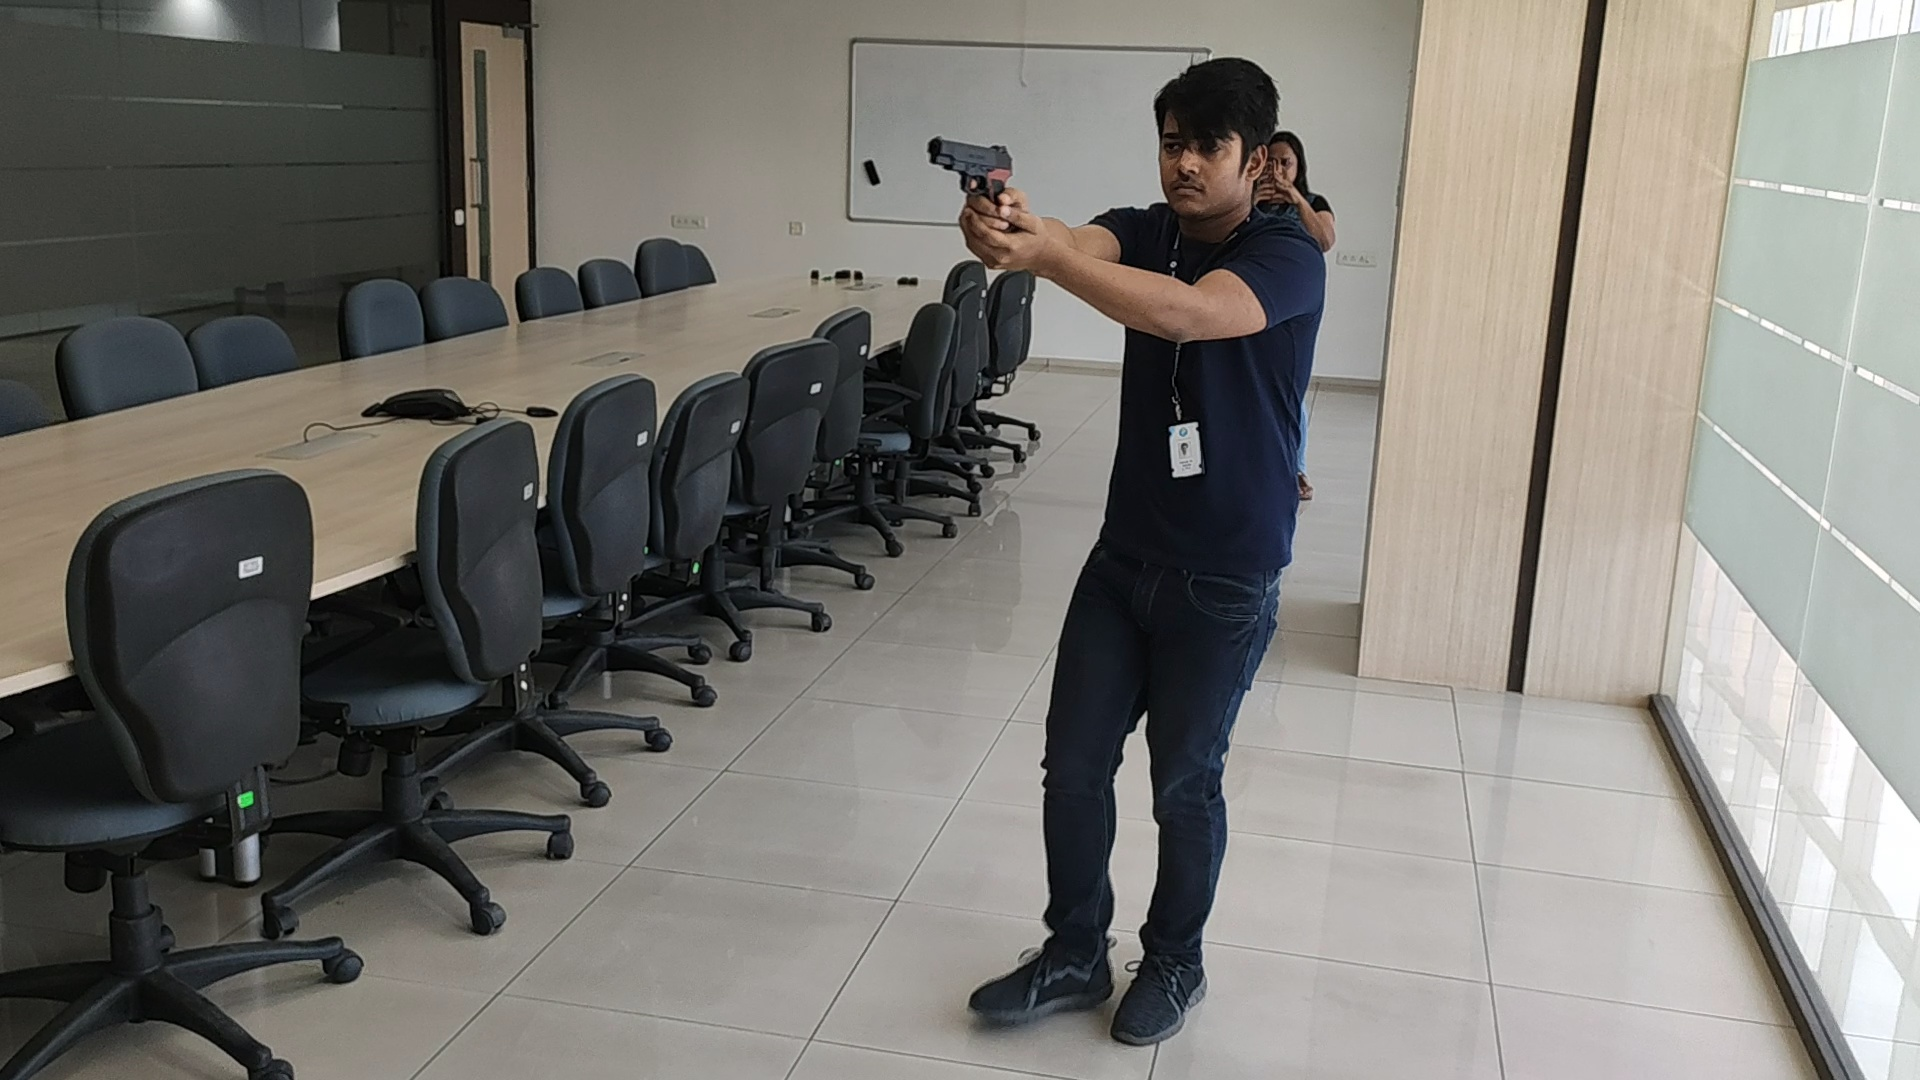gun: (924, 132, 1017, 198)
